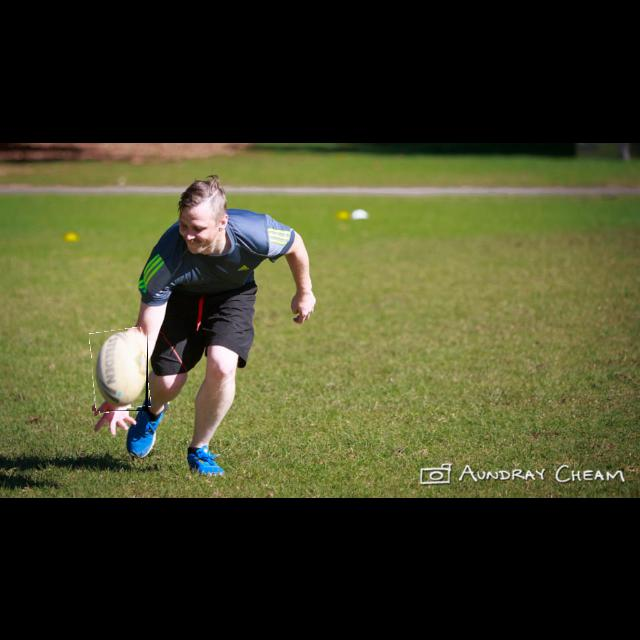Football: (92, 329, 148, 411)
